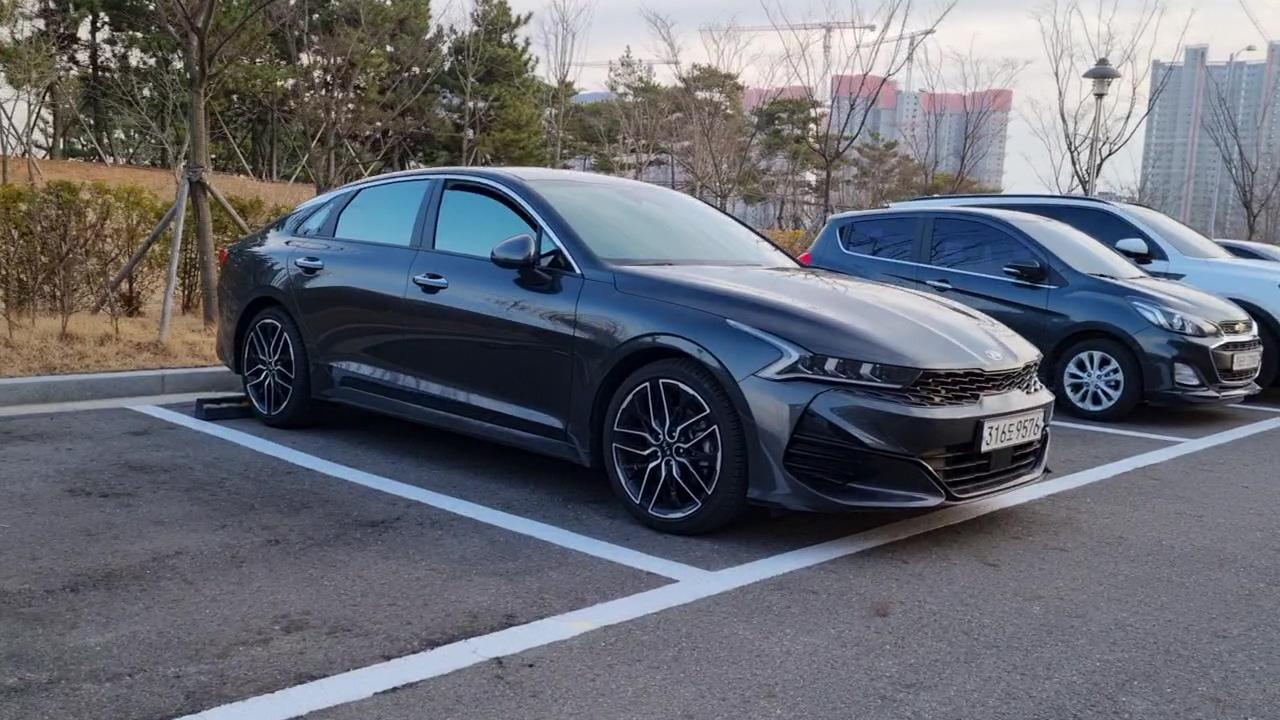occupied: (230, 168, 1025, 601), (975, 229, 1273, 434)
